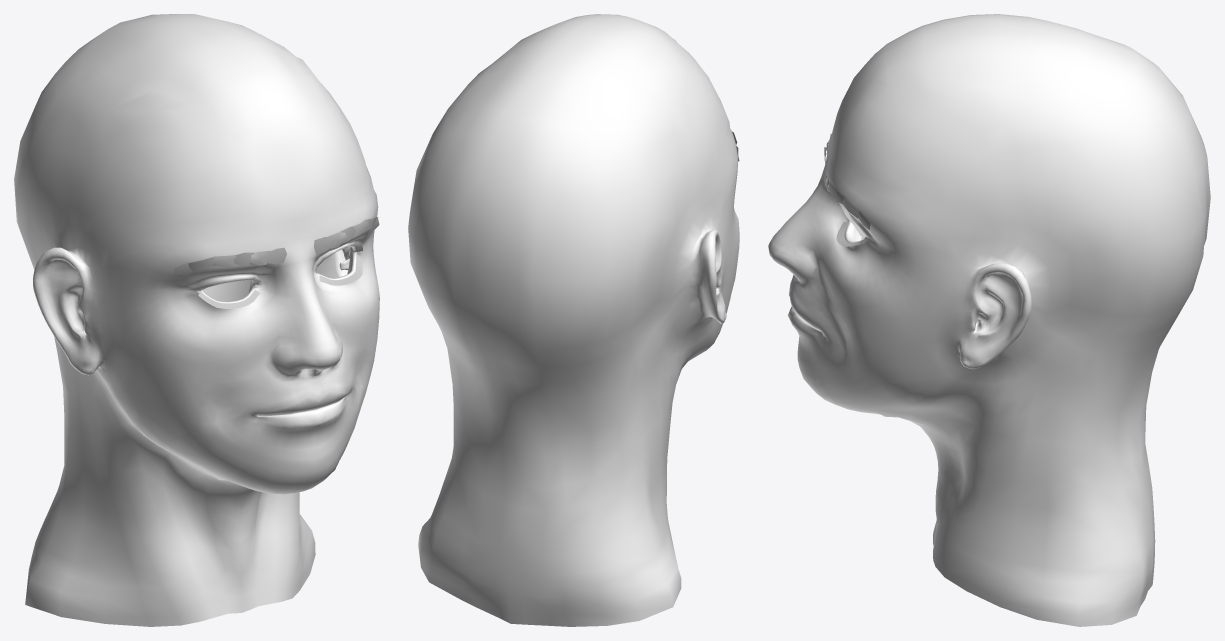
The model's file is eyeWideLeft.obj.
3 views of the same model, side by side, from view 1: azimuth 30°, elevation 25°; view 2: azimuth 150°, elevation 25°; view 3: azimuth 270°, elevation 25° (orthographic). The views are drawn at different scales.
Parts seen in each view (by area): view 1: FaceMesh_Plane.003; view 2: FaceMesh_Plane.003; view 3: FaceMesh_Plane.003.
Boxes of the visible parts, left/top/right/bottom form: FaceMesh_Plane.003: left=14, top=14, right=379, bottom=626; FaceMesh_Plane.003: left=408, top=14, right=739, bottom=626; FaceMesh_Plane.003: left=768, top=14, right=1210, bottom=626.
Size of the model in its own units: 1.54 by 2.71 by 1.94.
Materials: 5 (1 with a texture image).
